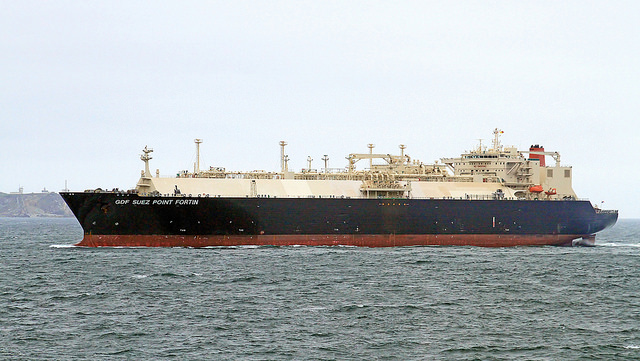LNG_ship: (56, 133, 623, 249)
